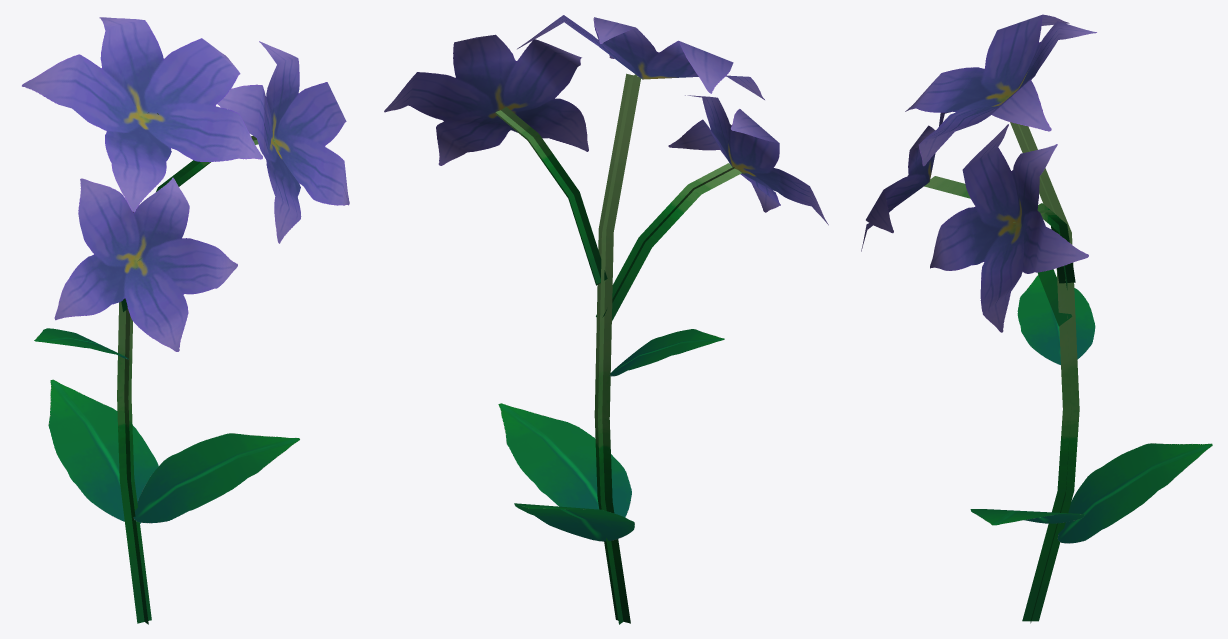
Rendered from SM_Lis.fbx.
3 renders of one model, left to right at view 1: azimuth 30°, elevation 25°; view 2: azimuth 150°, elevation 25°; view 3: azimuth 270°, elevation 25°, orthographic. The views are drawn at different scales.
Visible parts, largest first — view 1: Lis; view 2: Lis; view 3: Lis.
Boxes of the visible parts, x1,y1,x2,y2 form: Lis: (22,17,349,624); Lis: (384,15,828,624); Lis: (861,14,1212,623).
Size of the model in its own units: 83.66 by 134 by 73.09.
Materials: 1 (1 with a texture image).
